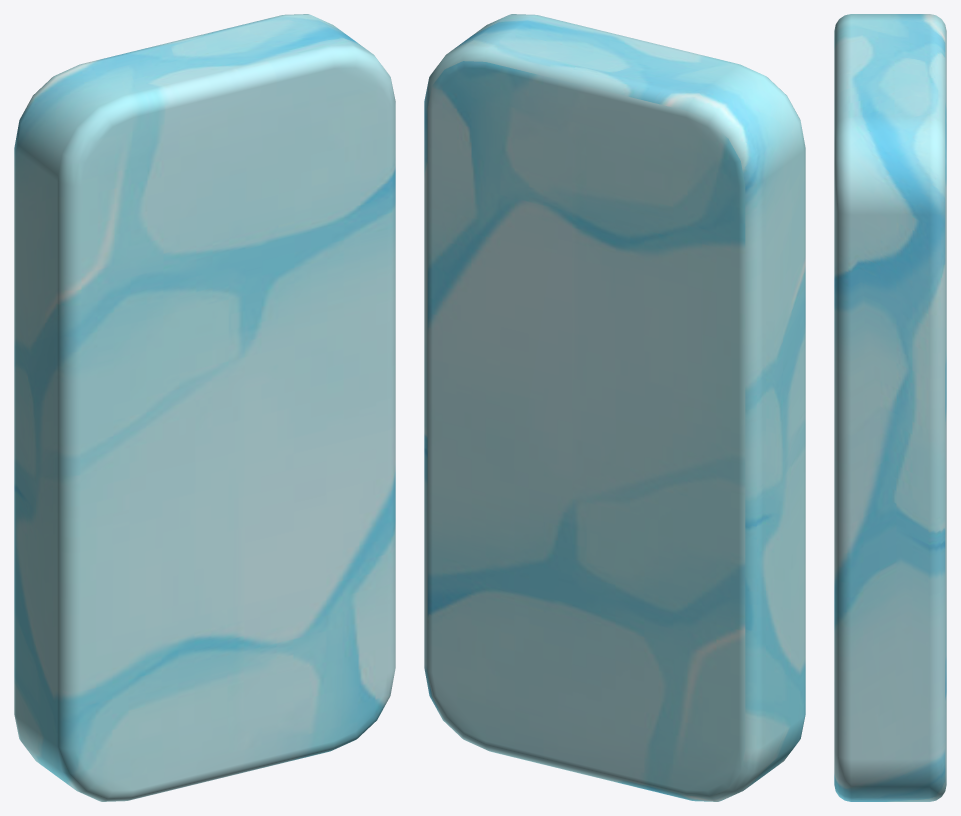
File: Ice_TwoShape.fbx
The picture shows the model from 3 angles, left to right: view 1: azimuth 30°, elevation 25°; view 2: azimuth 150°, elevation 25°; view 3: azimuth 270°, elevation 25°; orthographic projection. The views are drawn at different scales.
Parts seen in each view (by area): view 1: Ice_TwoShape; view 2: Ice_TwoShape; view 3: Ice_TwoShape.
Part boxes in pixels (bbox=[...]): Ice_TwoShape: bbox=[14, 14, 395, 801]; Ice_TwoShape: bbox=[424, 14, 805, 801]; Ice_TwoShape: bbox=[834, 14, 946, 801].
Size of the model in its own units: 1 by 2 by 0.3.
1 material, 1 textured.
